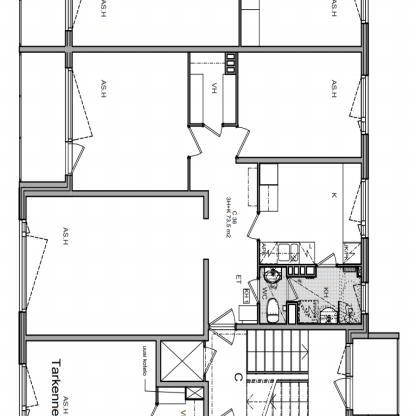bathroom: (259, 265, 366, 328)
door: (179, 125, 208, 162), (328, 375, 358, 410), (59, 140, 89, 174), (231, 125, 255, 164), (242, 208, 266, 244), (198, 344, 218, 380), (207, 306, 240, 327), (206, 325, 240, 343)
perimeter: (21, 49, 367, 337)
stairs: (244, 328, 309, 415)
window: (14, 233, 52, 316), (57, 65, 96, 144), (347, 72, 380, 136), (347, 176, 374, 242), (15, 356, 42, 416), (335, 340, 358, 378), (352, 279, 374, 316)
